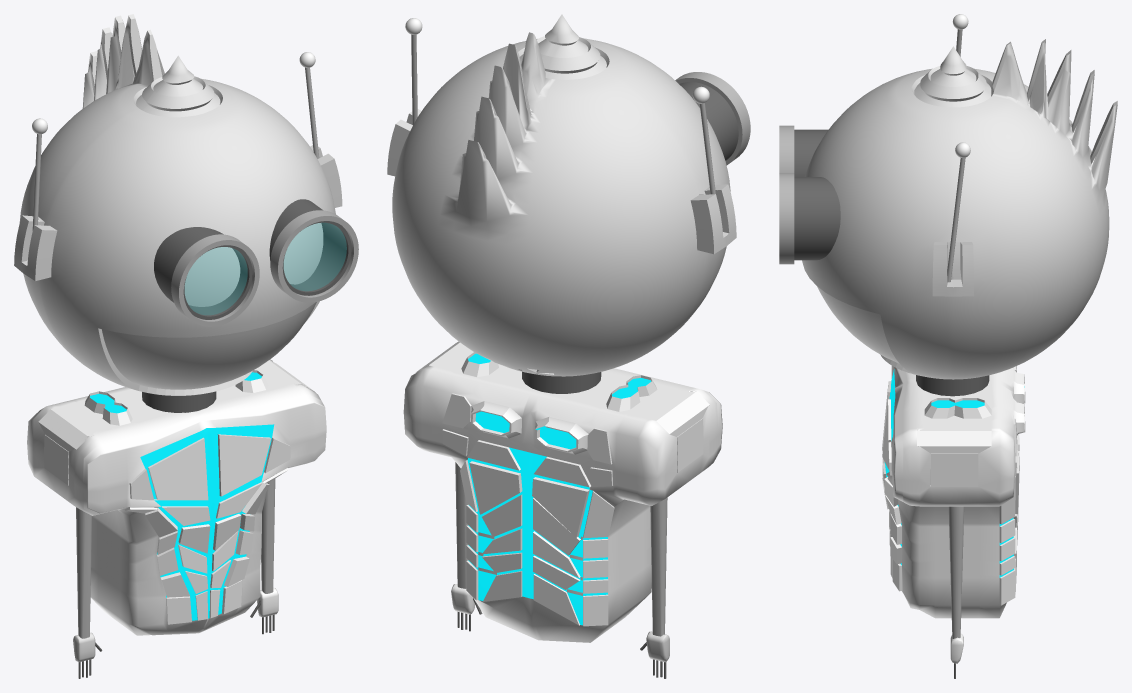
File: aven-robot.glb
3 renders of one model, left to right at view 1: azimuth 30°, elevation 25°; view 2: azimuth 150°, elevation 25°; view 3: azimuth 270°, elevation 25°, orthographic. The views are drawn at different scales.
Visible parts, largest first — view 1: pSphere1, Torso, pCylinder2, pCylinder1, pPipe1, pPipe3, pPipe4, pPipe2, Braso_2, Braso_1, Cuello, pCube2 (+1 smaller); view 2: pSphere1, Torso, Braso_2, pPipe1, pPipe2, Cuello, Braso_1, pCube2, pCylinder4; view 3: pSphere1, Torso, pPipe3, Braso_1, pPipe4, Cuello, pPipe1, pPipe2, pCylinder3.
Boxes of the visible parts, x1=… form: pSphere1: x1=14, y1=14, x2=342, y2=395; Torso: x1=27, y1=359, x2=326, y2=635; pCylinder2: x1=284, y1=223, x2=346, y2=290; pCylinder1: x1=185, y1=247, x2=247, y2=314; pPipe1: x1=154, y1=227, x2=252, y2=319; pPipe3: x1=269, y1=199, x2=351, y2=295; pPipe4: x1=270, y1=210, x2=358, y2=302; pPipe2: x1=171, y1=234, x2=259, y2=326; Braso_2: x1=76, y1=507, x2=91, y2=638; Braso_1: x1=261, y1=479, x2=275, y2=593; Cuello: x1=142, y1=391, x2=216, y2=412; pCube2: x1=73, y1=632, x2=95, y2=662; pSphere1: x1=387, y1=14, x2=736, y2=376; Torso: x1=403, y1=341, x2=722, y2=642; Braso_2: x1=650, y1=497, x2=667, y2=636; pPipe1: x1=679, y1=82, x2=738, y2=160; pPipe2: x1=675, y1=72, x2=750, y2=165; Cuello: x1=522, y1=371, x2=601, y2=393; Braso_1: x1=455, y1=462, x2=468, y2=588; pCube2: x1=646, y1=631, x2=669, y2=662; pCylinder4: x1=699, y1=103, x2=715, y2=194; pSphere1: x1=802, y1=39, x2=1117, y2=379; Torso: x1=882, y1=366, x2=1025, y2=618; pPipe3: x1=794, y1=177, x2=840, y2=260; Braso_1: x1=948, y1=506, x2=964, y2=638; pPipe4: x1=779, y1=173, x2=794, y2=264; Cuello: x1=916, y1=375, x2=989, y2=396; pPipe1: x1=794, y1=129, x2=827, y2=176; pPipe2: x1=779, y1=125, x2=794, y2=172; pCylinder3: x1=947, y1=157, x2=965, y2=282.
Bounding box in the file's own units: 3.52 × 6.6 × 3.41.
